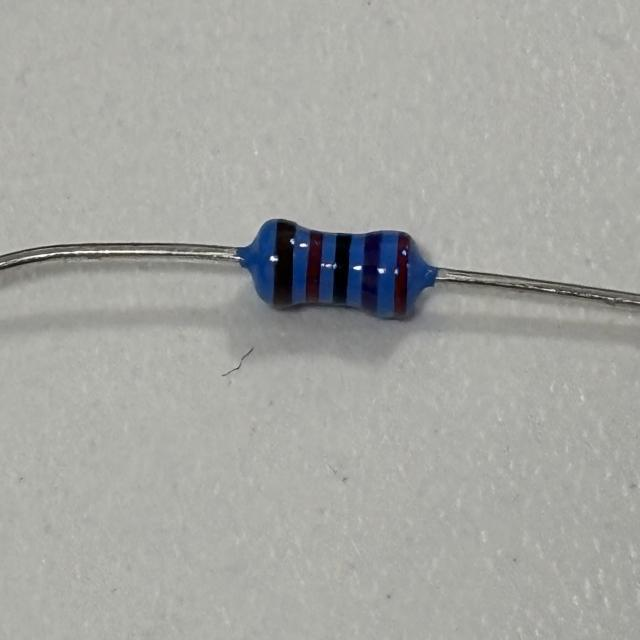resistor: (259, 217, 418, 327)
